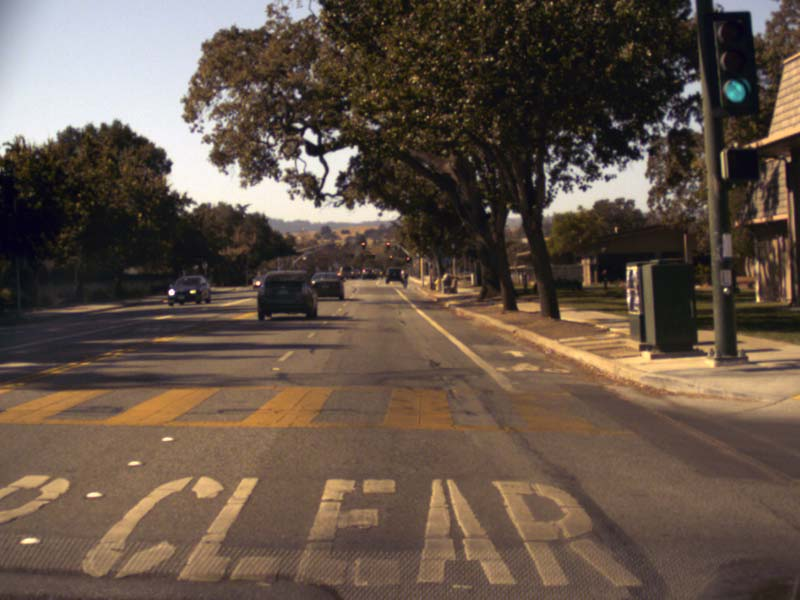Green: (714, 16, 754, 110)
Red: (359, 239, 367, 247), (385, 241, 390, 247), (405, 256, 410, 261)
Yellow: (387, 254, 393, 259)
